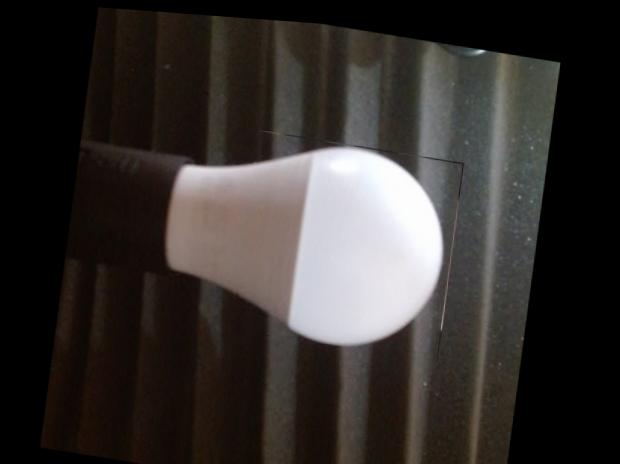Fan: (232, 125, 464, 357)
